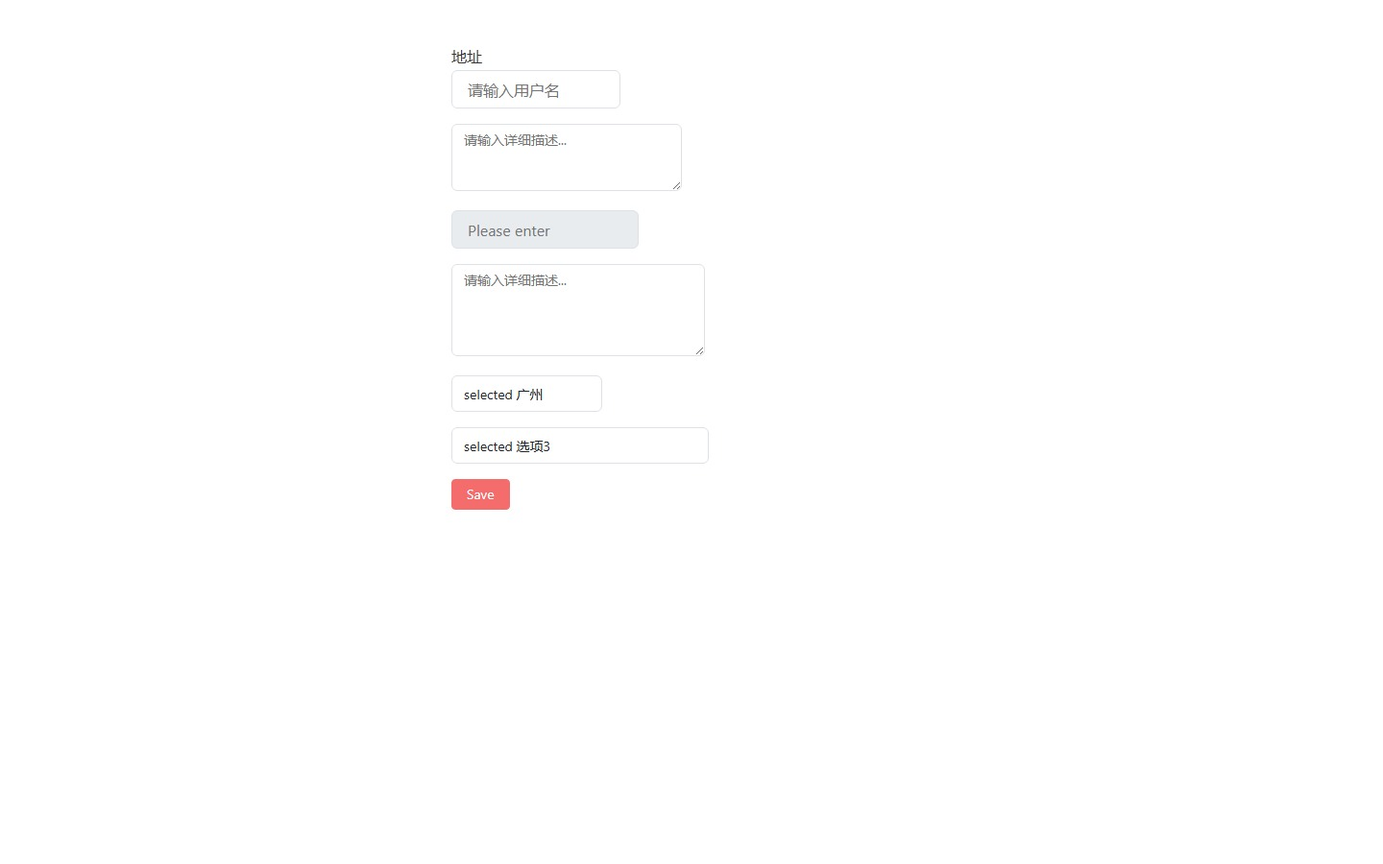button: (451, 479, 510, 510)
input: (451, 210, 639, 249), (451, 70, 620, 108)
select: (451, 427, 709, 464), (451, 375, 602, 412)
textarea: (451, 264, 705, 356), (451, 124, 682, 191)
